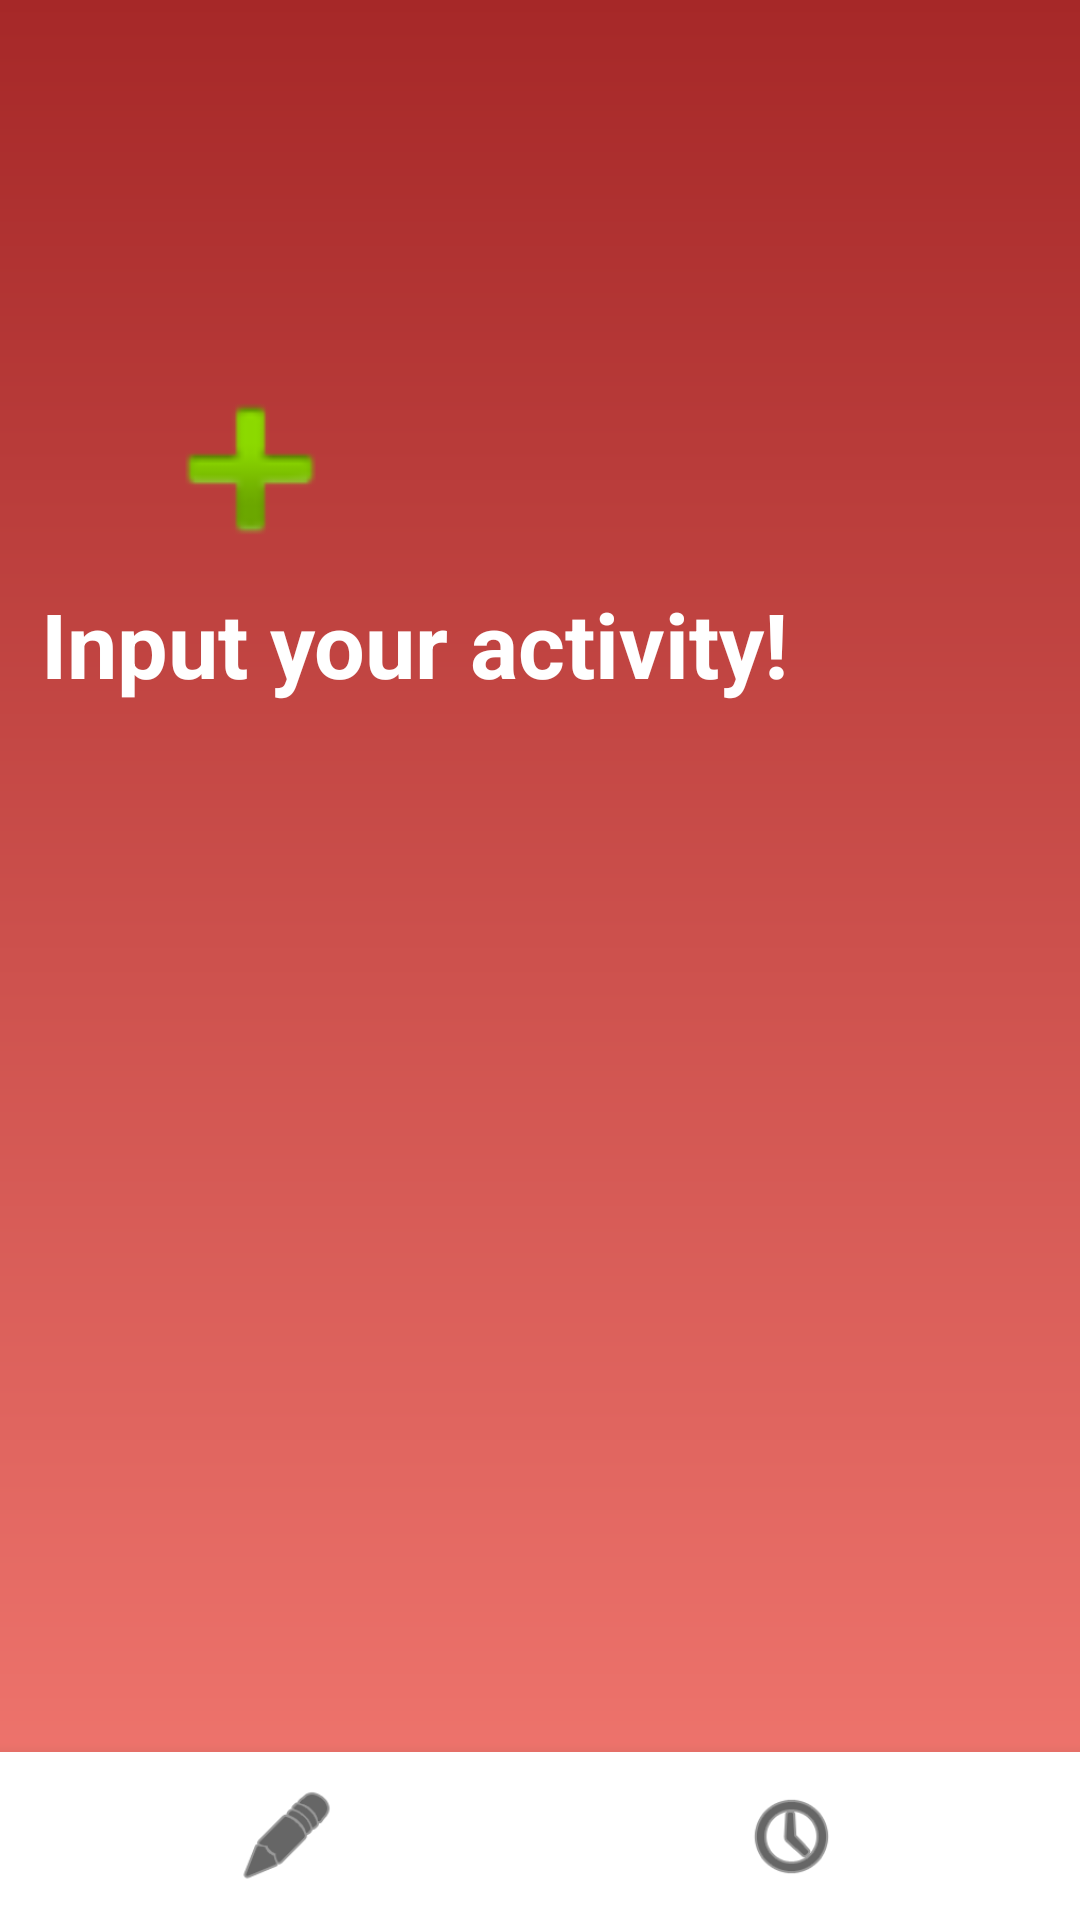

Screen size 1080 × 1920. Icon name, then its center in pixels as point (x, y):
add: point (250, 469)
